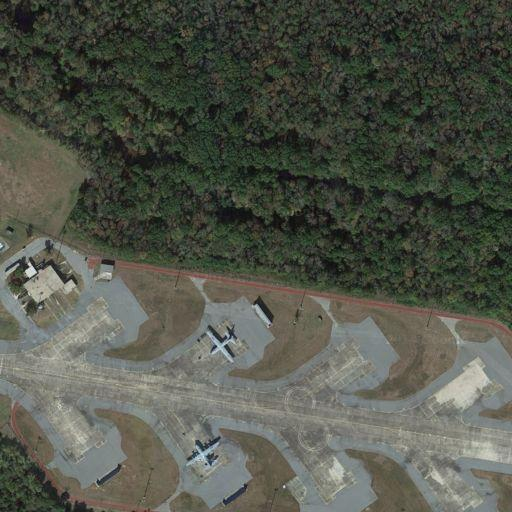C-130: (200, 326, 242, 368), (182, 436, 227, 475)
